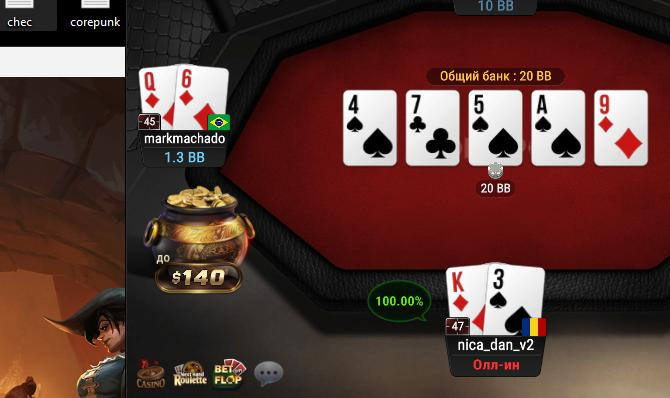3s: (486, 264, 543, 336)
4s: (344, 91, 396, 164)
5s: (470, 91, 522, 164)
6d: (176, 66, 228, 131)
7c: (407, 91, 458, 165)
9d: (596, 91, 647, 164)
As: (532, 92, 584, 165)
Kd: (444, 266, 486, 334)
Qd: (139, 67, 176, 130)
